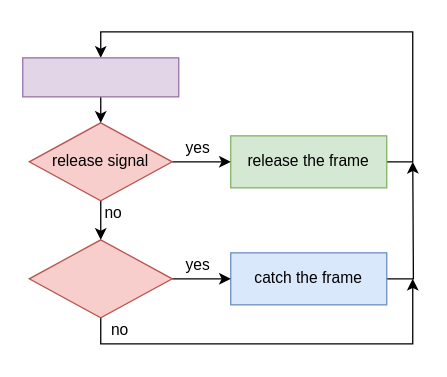
This 447x377 diagram has some shape labels left out. The centre of each missing label's shape, as x and y in pixels:
"frame in area" goes at (x=100, y=278).
"OnUpdate" goes at (x=100, y=77).
